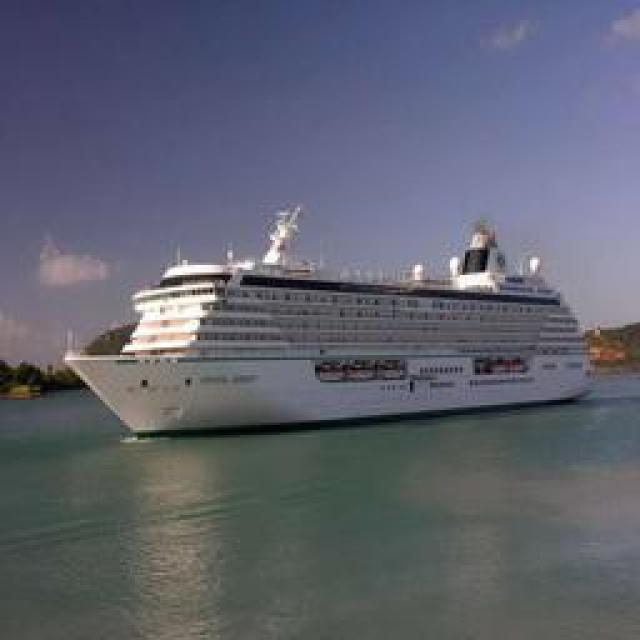Ship: (72, 216, 590, 436)
